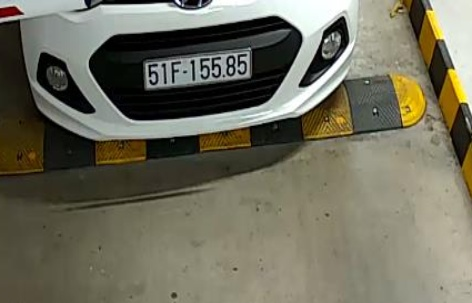plate: (142, 49, 258, 94)
